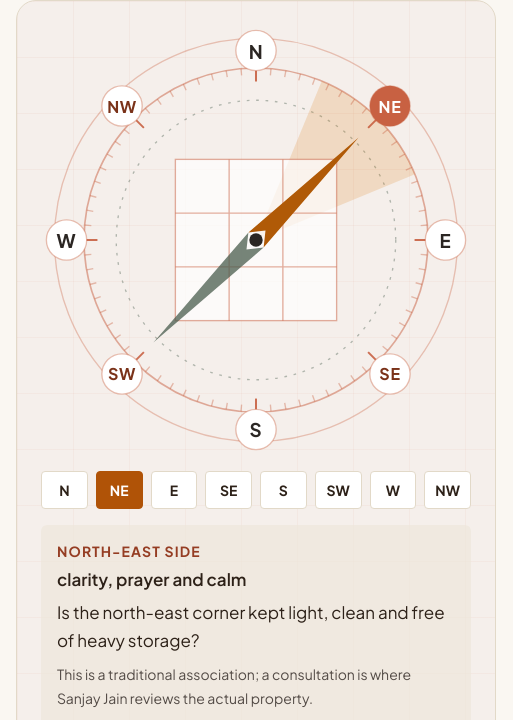
VastuDial › selects the nearest direction when the dial is clicked or tapped
Click the icon "N". click: x=256, y=240
box: x1=41 y1=25 x2=471 y2=455
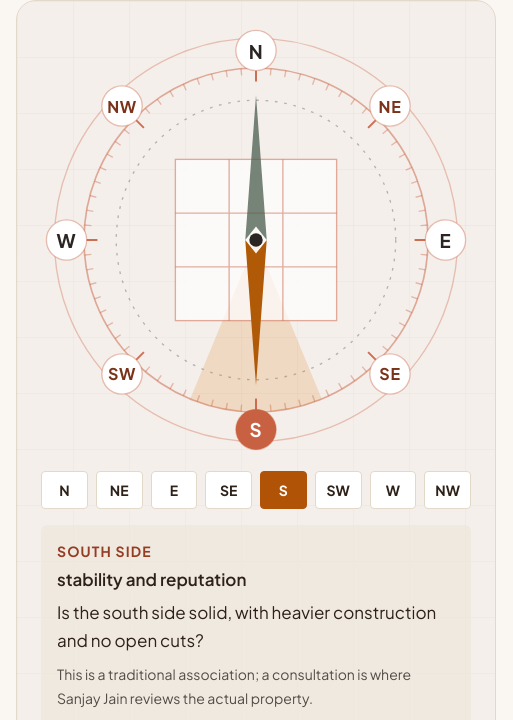
Check: the text "South side" is shown, box x1=57 y1=542 x2=152 y2=560
